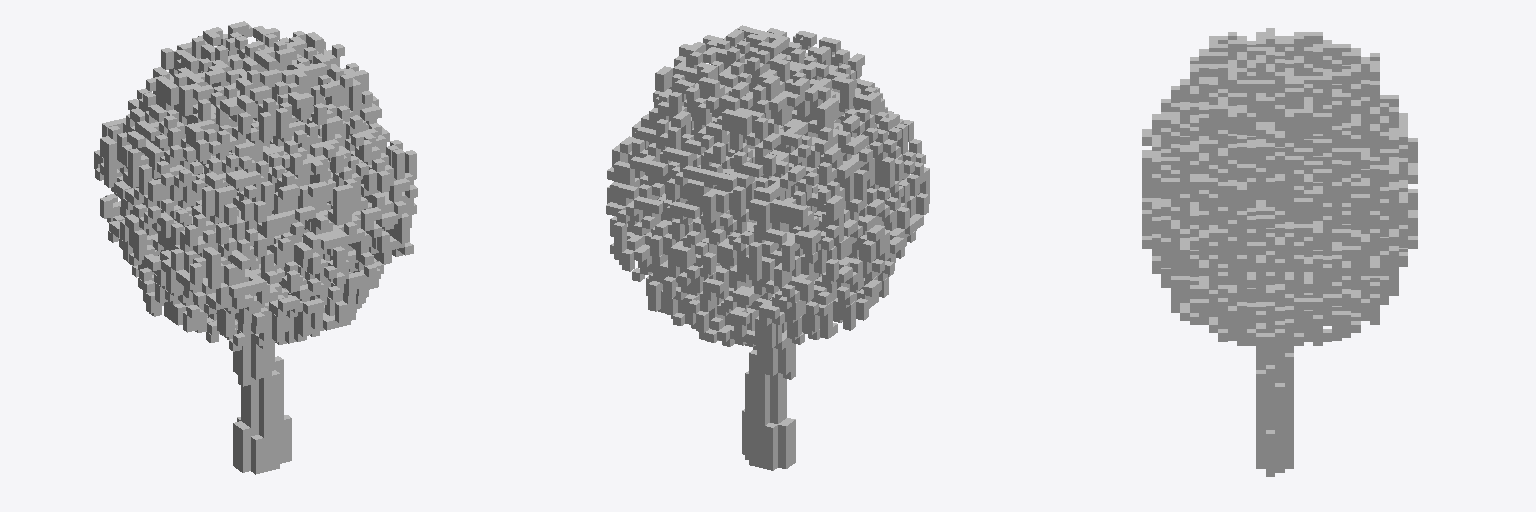
File: 3D Voxel Park-33.obj
3 views of the same model, side by side, from view 1: azimuth 30°, elevation 25°; view 2: azimuth 150°, elevation 25°; view 3: azimuth 270°, elevation 25° (orthographic).
Parts seen in each view (by area): view 1: object 1; view 2: object 1; view 3: object 1.
Boxes of the visible parts, <box> form: object 1: <box>94,21,417,474</box>; object 1: <box>606,25,929,470</box>; object 1: <box>1142,28,1417,476</box>.
Bounding box in the file's own units: 2.9 × 4.8 × 2.9.